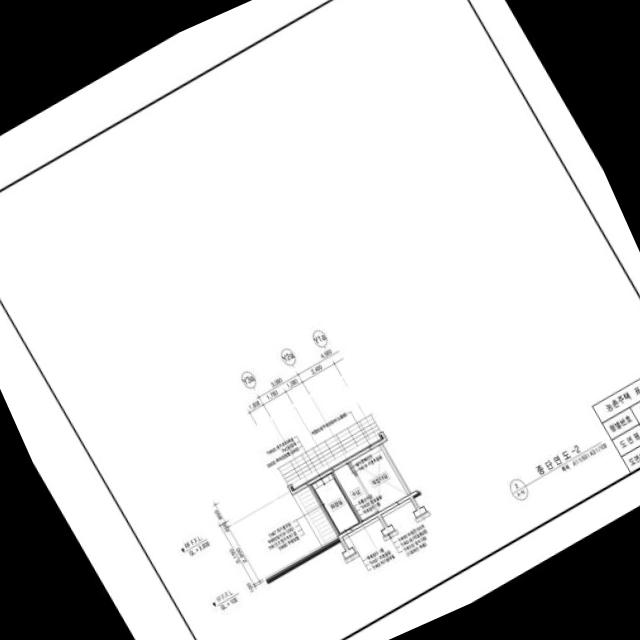background: (0, 0, 640, 640)
space_other: (350, 445, 408, 511), (333, 463, 376, 520)
space_toilet: (310, 472, 360, 534)
